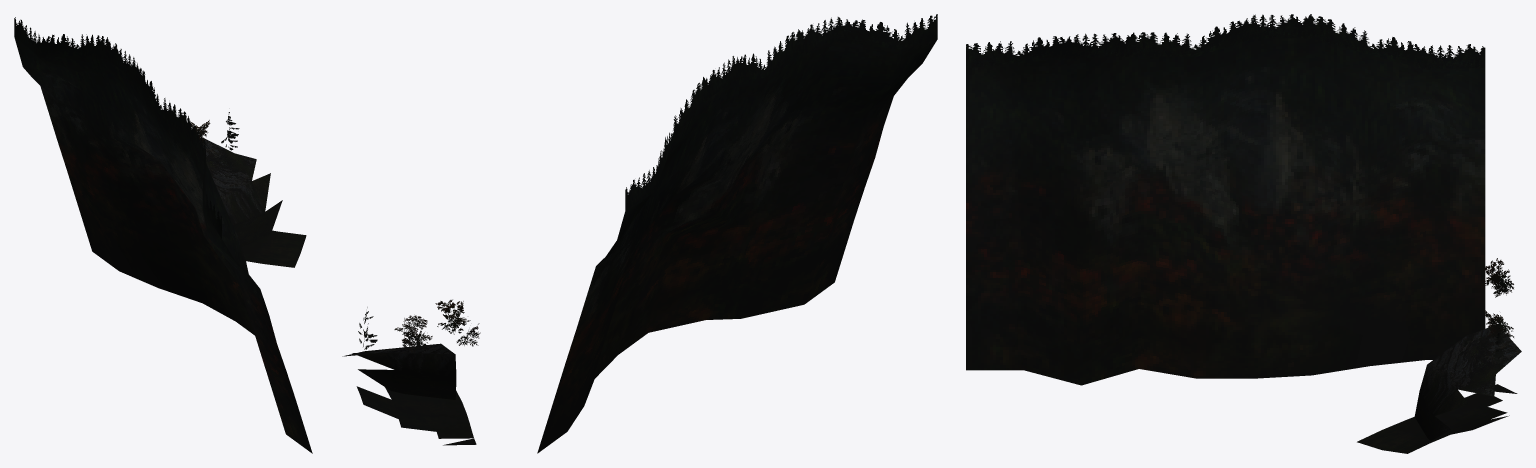
File: cell_1_-7.gltf
3 views of the same model, side by side, from view 1: azimuth 30°, elevation 25°; view 2: azimuth 150°, elevation 25°; view 3: azimuth 270°, elevation 25° (orthographic). The views are drawn at different scales.
Visible parts, largest first — view 1: cell_1_-7; view 2: cell_1_-7; view 3: cell_1_-7.
Part boxes in pixels (x1,y1,x2,y2): cell_1_-7: (14,17,312,453); cell_1_-7: (342,14,937,453); cell_1_-7: (966,14,1521,453).
Size of the model in its own units: 170 by 173 by 262.
9 materials, 9 textured.
